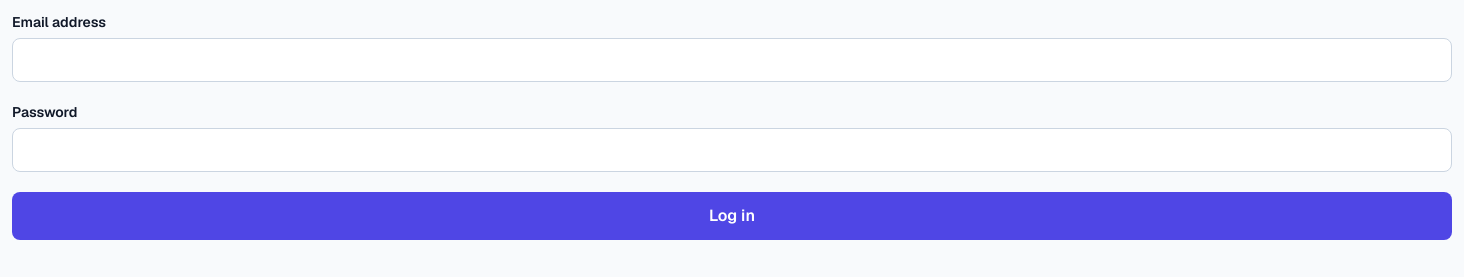
log in never leaves the button on 'Logging in…' › success: the session comes from the response, the router moves on, the password is forgotten and the form is usable again
Later steps or results of the test are not shown.
In the field labelled "Email address": (732, 60) [12,38,1452,82], type "s@example.test"
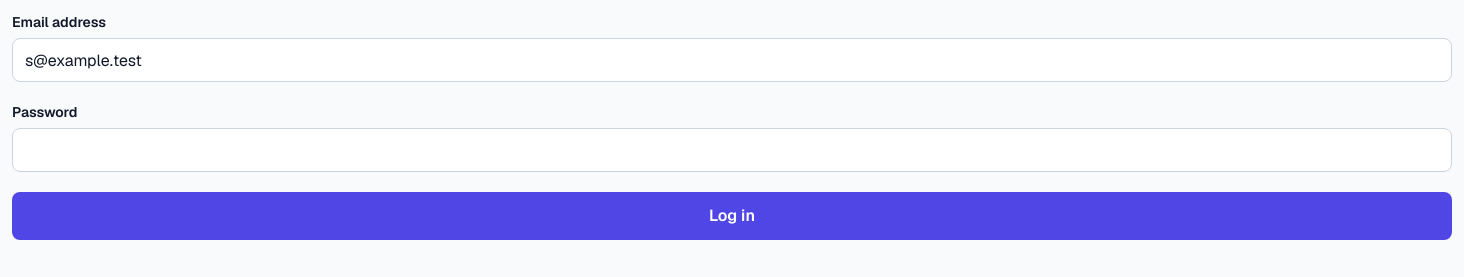
In the password field labelled "Password": (732, 150) [12,128,1452,172], type "correct horse battery 7"
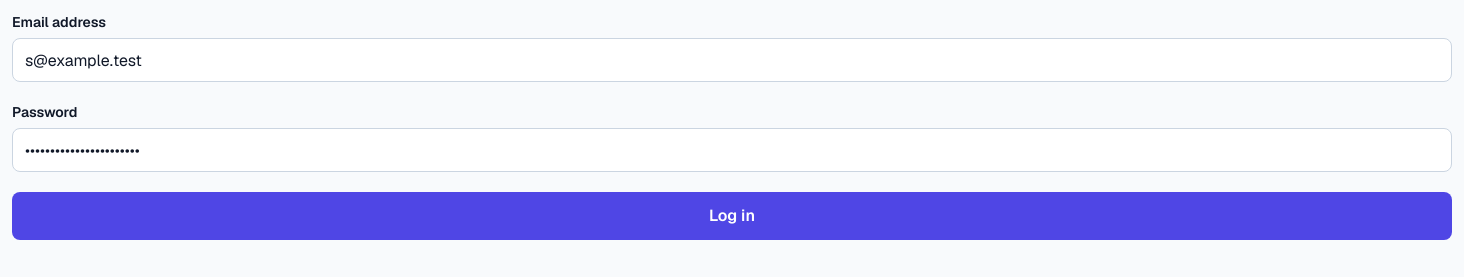
Submit the submit button
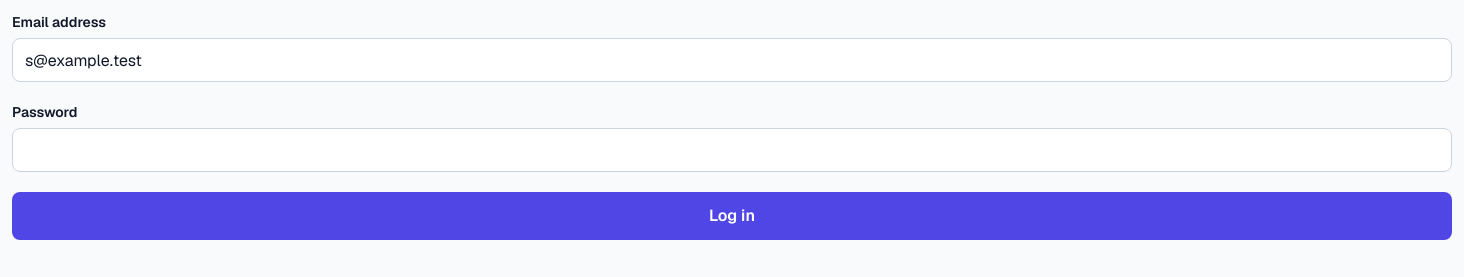
Expected: the password field labelled "Password" is empty, [12,128,1452,172]
